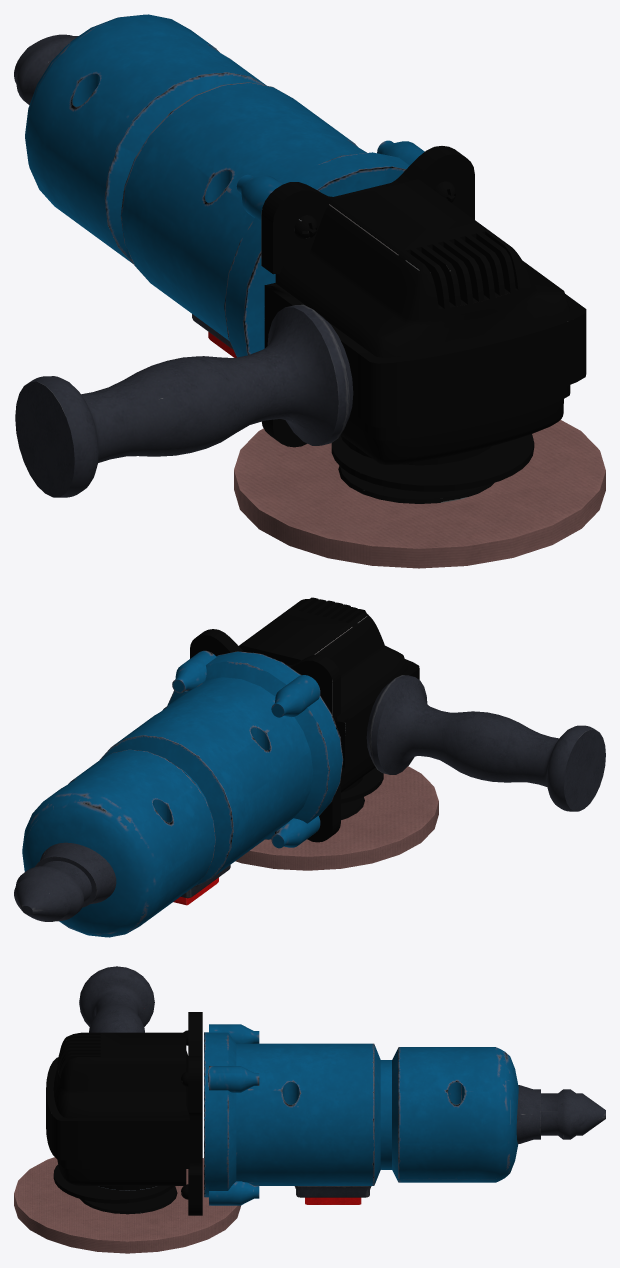
Rendered from JiaoMoJi.FBX.
3 renders of one model, top to bottom at view 1: azimuth 30°, elevation 25°; view 2: azimuth 150°, elevation 25°; view 3: azimuth 270°, elevation 25°, orthographic. The views are drawn at different scales.
Visible parts, largest first — view 1: hgrinder; view 2: hgrinder; view 3: hgrinder.
Boxes of the visible parts, x1,y1,x2,y2 form: hgrinder: (14,14,605,568); hgrinder: (14,597,605,937); hgrinder: (14,966,605,1253).
Bounding box in the file's own units: 12.85 × 6.58 × 19.79.
1 material, 1 textured.
